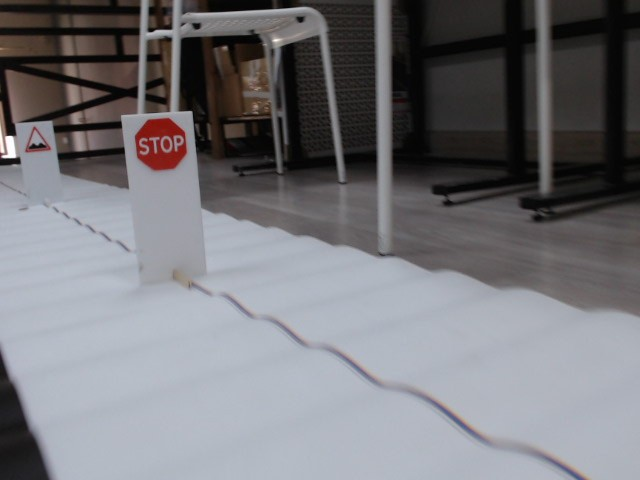Stop: (133, 119, 189, 172)
